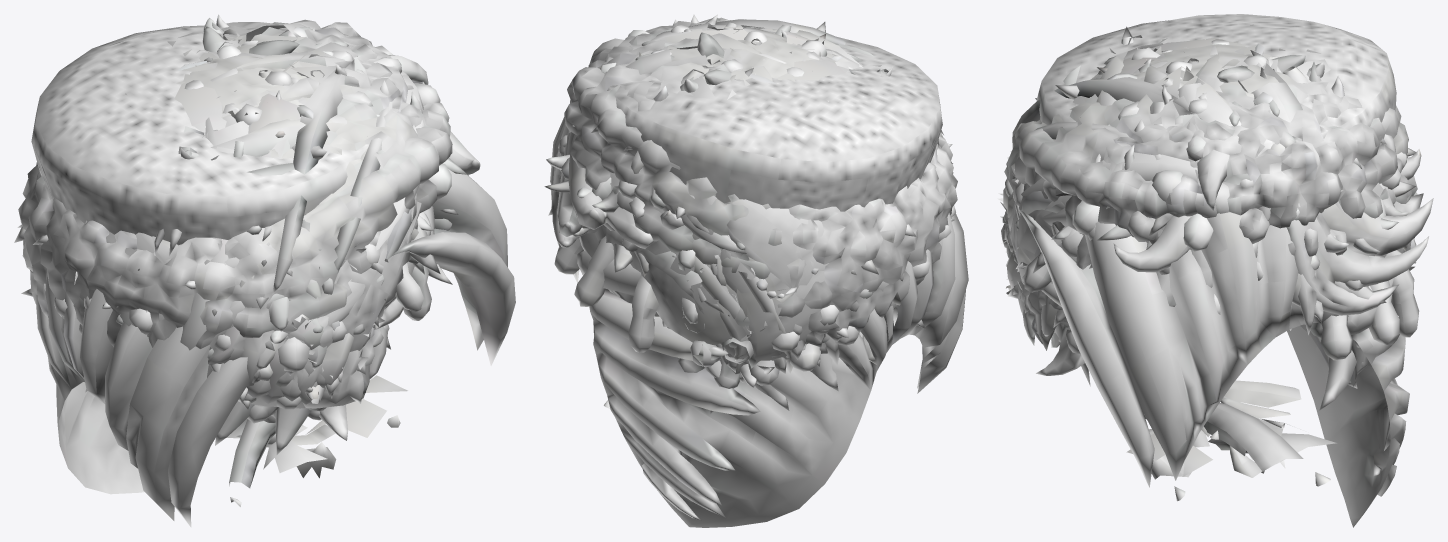
Rendered from hair_styles.glb.
The picture shows the model from 3 angles, left to right: view 1: azimuth 30°, elevation 25°; view 2: azimuth 150°, elevation 25°; view 3: azimuth 270°, elevation 25°; orthographic projection. The views are drawn at different scales.
Visible parts, largest first — view 1: hair5, hair16, hair1, hair10, hair9, hair4, hair3, hair6, hair8, hair13, hair11, hair12 (+5 smaller); view 2: hair16, hair5, hair1, hair9, hair4, hair15, hair3, hair11, hair0, hair10, hair13, hair8 (+6 smaller); view 3: hair16, hair5, hair1, hair15, hair3, hair9, hair13, hair10, hair18, hair12, hair4, hair8 (+7 smaller).
Part boxes in pixels (<box>): hair5: <box>18,19,452,488</box>; hair16: <box>35,39,515,527</box>; hair1: <box>31,25,407,378</box>; hair10: <box>154,51,400,478</box>; hair9: <box>169,24,416,506</box>; hair4: <box>190,52,416,351</box>; hair3: <box>85,51,451,454</box>; hair6: <box>44,18,348,408</box>; hair8: <box>106,73,424,338</box>; hair13: <box>14,34,480,409</box>; hair11: <box>125,50,467,472</box>; hair12: <box>54,38,452,444</box>; hair16: <box>550,23,968,527</box>; hair5: <box>564,17,957,372</box>; hair1: <box>604,25,942,270</box>; hair9: <box>625,19,943,373</box>; hair4: <box>629,30,836,358</box>; hair15: <box>552,38,897,373</box>; hair3: <box>554,28,925,410</box>; hair11: <box>608,75,828,303</box>; hair0: <box>612,52,897,388</box>; hair10: <box>604,27,939,408</box>; hair13: <box>544,14,954,338</box>; hair8: <box>579,60,940,316</box>; hair16: <box>1019,48,1409,527</box>; hair5: <box>1003,40,1417,476</box>; hair1: <box>1000,14,1396,299</box>; hair15: <box>1007,43,1433,315</box>; hair3: <box>1001,48,1419,386</box>; hair9: <box>1007,35,1302,468</box>; hair13: <box>1015,26,1421,439</box>; hair10: <box>1005,50,1330,501</box>; hair18: <box>997,51,1415,410</box>; hair12: <box>1005,56,1318,471</box>; hair4: <box>1010,44,1411,284</box>; hair8: <box>1007,38,1368,286</box>.
Size of the model in its own units: 0.3666 by 0.389 by 0.3207.
1 material, 1 textured.
